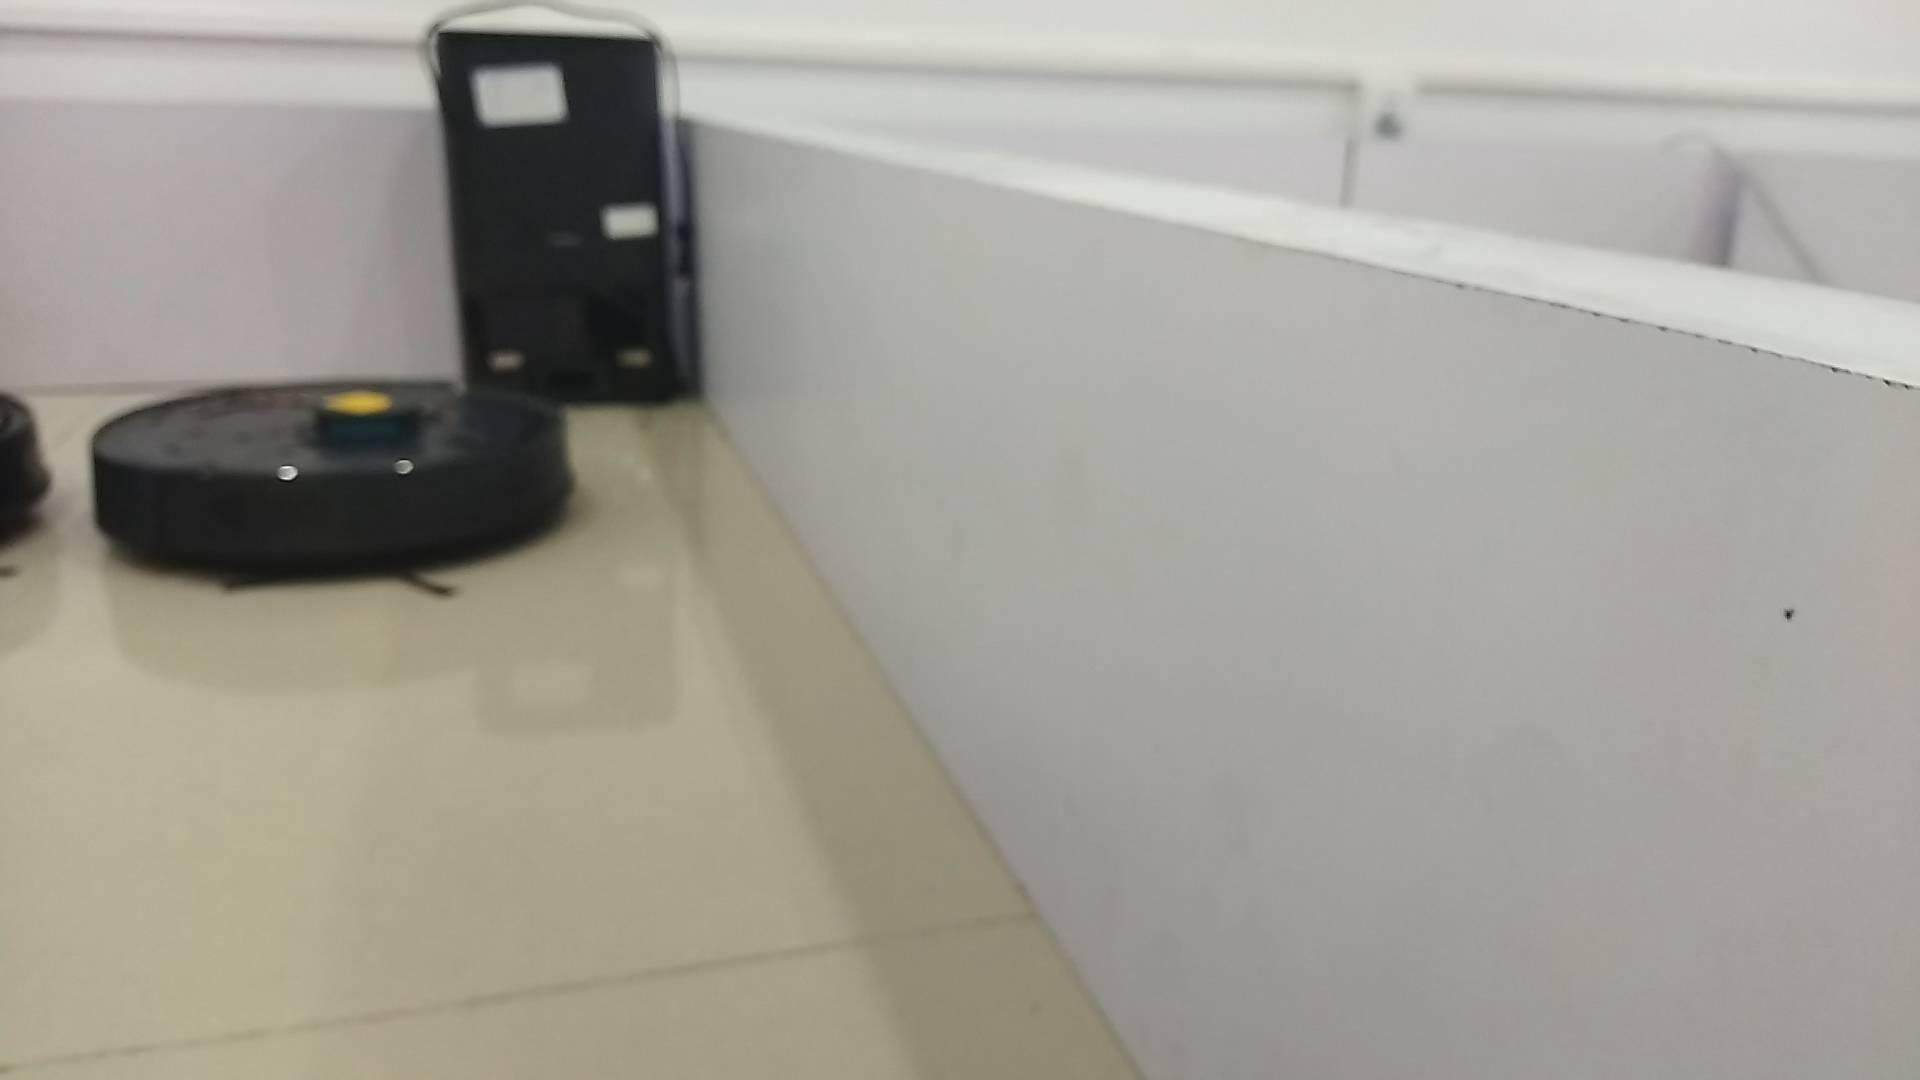dust collecting barrel: (435, 26, 696, 409)
